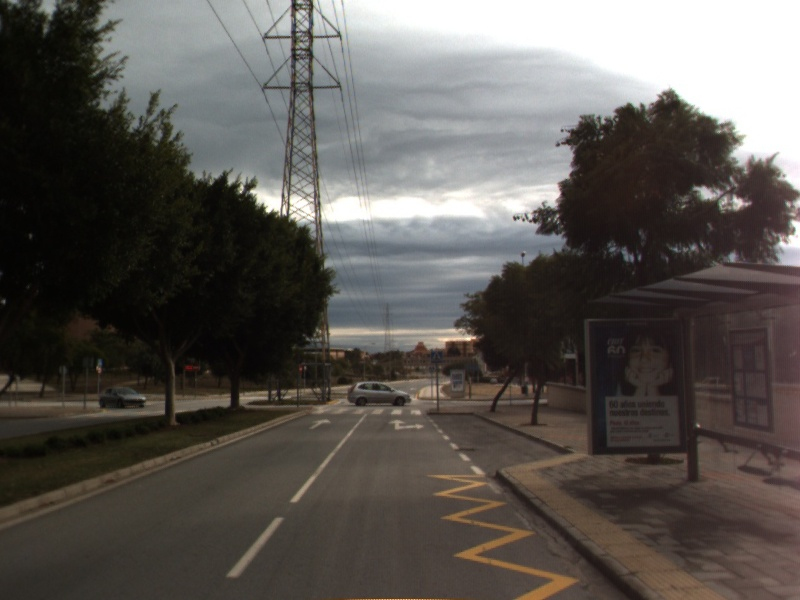STRAIGHT: (306, 416, 333, 431)
STRAIGHT_RIGHT: (386, 417, 427, 432)
